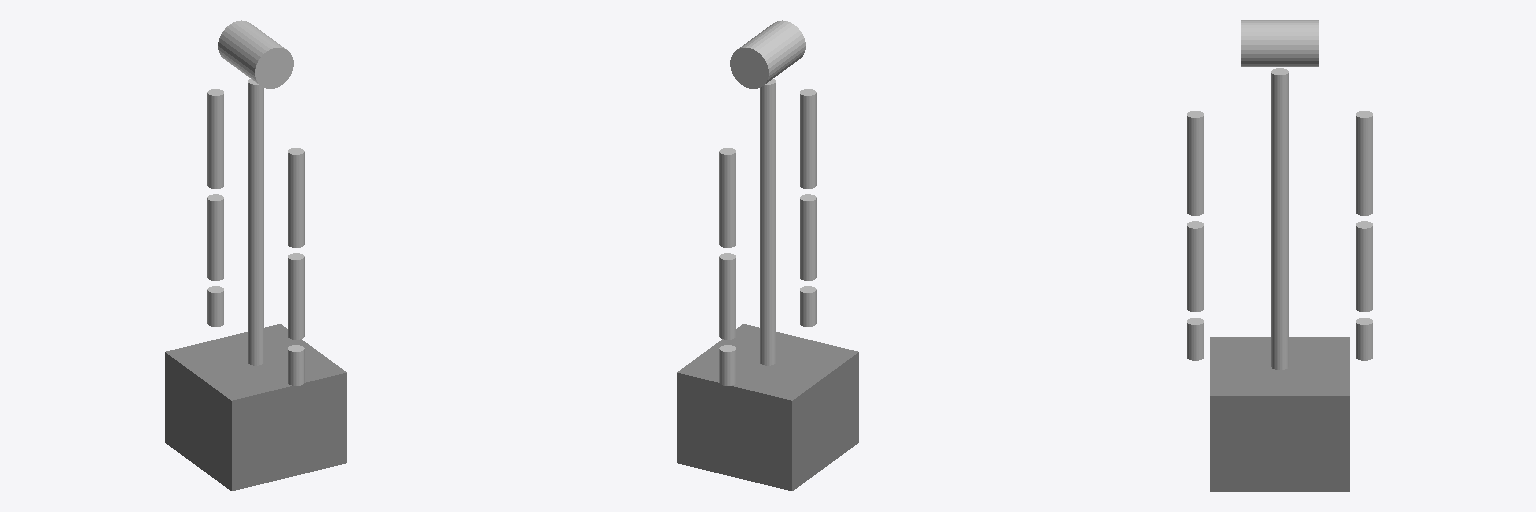
The robot description file, URDF, robot "hovering_atlas":
<?xml version="1.0" ?>
<robot name="hovering_atlas" xmlns:body="http://playerstage.sourceforge.net/gazebo/xmlschema/#body" xmlns:controller="http://playerstage.sourceforge.net/gazebo/xmlschema/#controller" xmlns:geom="http://playerstage.sourceforge.net/gazebo/xmlschema/#geom" xmlns:interface="http://playerstage.sourceforge.net/gazebo/xmlschema/#interface" xmlns:joint="http://playerstage.sourceforge.net/gazebo/xmlschema/#slider" xmlns:sensor="http://playerstage.sourceforge.net/gazebo/xmlschema/#sensor" xmlns:xacro="http://ros.org/wiki/xacro">  

  <material name="LightGrey">
    <color rgba="0.8 0.8 0.8 1.0"/>
  </material>
  <material name="Grey">
    <color rgba="0.6 0.6 0.6 1.0"/>
  </material>
  <material name="DarkGrey">
    <color rgba="0.3 0.3 0.3 1.0"/>
  </material>
  <material name="Black">
    <color rgba="0.1 0.1 0.1 1.0"/>
  </material>
<!--Superheavy base_link-->
<!-- <link name="base_link">
    <inertial>
      <origin rpy="0 0 0" xyz="0 0 0"/>
      <mass value="10000"/>
      <inertia ixx="10000" ixy="0" ixz="0" iyy="10000" iyz="0" izz="10000"/>
    </inertial>
   <visual>
      <origin rpy="0 0 0" xyz="0 0 0"/>
      <geometry>
        <box size="0.8 0.8 0.02"/>
      </geometry>
    </visual>
    <collision>
      <origin rpy="0 0 0" xyz="0 0 0"/>
      <geometry>
        <box size="0.8 0.8 0.02"/>
      </geometry>
    </collision>
</link>-->

<link name="Torso">
    <!-- assuming the rotational inertia of the torso is of a cuboid -->
    <inertial>
      <mass value="19.267"/>
      <inertia ixx="0.769042349872" ixy="0.0" ixz="0.0" iyy="0.418881944536" iyz="0.0" izz="0.452546488768"/>
    </inertial>
    <visual>
      <origin rpy="0 0 0" xyz="0.0 0.0 0.43927308"/>
      <geometry>
        <cylinder length="0.97854616" radius="0.025"/>
      </geometry>
      <material name="LightGrey"/>
    </visual>
    <collision>
      <origin rpy="0 0 0" xyz="0.0 0.0 0.43927308"/>
      <geometry>
        <box size=" 0.178562 0.4999736 0.97854616"/>
      </geometry>
    </collision>
  </link>

   <link name="NeckYaw_link">
    <inertial>
      <mass value="0.9"/>
      <inertia ixx="0.00530271247008" ixy="0.0" ixz="0.0" iyy="0.00530271247008" iyz="0.0" izz="0.00201768391825"/>
    </inertial>
  </link>
  <link name="NeckPitch_link">
    <inertial>
      <mass value="0.9"/>
      <inertia ixx="0.00530271247008" ixy="0.0" ixz="0.0" iyy="0.00530271247008" iyz="0.0" izz="0.00201768391825"/>
    </inertial>
    <visual>
      <origin rpy="1.57079632679 0 0" xyz="0 0 0.13749274"/>
      <geometry>
        <cylinder length="0.22141688" radius="0.06696075"/>
        <!--  <sphere radius="${(l_head/2)*height}"/>-->
      </geometry>
      <material name="LightGrey"/>
    </visual>
    <collision>
      <origin rpy="1.57 0 0" xyz="0 0 0.13749274"/>
      <geometry>
        <cylinder length="0.23927308" radius="0.06696075"/>
      </geometry>
    </collision>
  </link>
   <link name="LShoulderYaw_link">
    <inertial>
      <mass value="2.18522222222"/>
     <inertia ixx="0.0231667622255" ixy="0.0" ixz="0.0" iyy="0.0231667622255" iyz="0.0" izz="0.00217732727683"/>
    </inertial>
  </link>
  <link name="LShoulderPitch_link">
    <inertial>
      <mass value="2.18522222222"/>
      <inertia ixx="0.0231667622255" ixy="0.0" ixz="0.0" iyy="0.0231667622255" iyz="0.0" izz="0.00217732727683"/>
    </inertial>
  </link>
  <link name="LShoulderRoll_link">
    <inertial>
      <mass value="2.18522222222"/>
      <inertia ixx="0.0231667622255" ixy="0.0" ixz="0.0" iyy="0.0231667622255" iyz="0.0" izz="0.00217732727683"/>
    </inertial>
    <visual>
      <origin rpy="0 0 0" xyz="0 0 -0.17409795"/>
      <geometry>
        <cylinder length="0.3081959" radius="0.025"/>
      </geometry>
      <material name="LightGrey"/>
    </visual>
    <collision>
      <origin rpy="0 0 0" xyz="0 0 -0.17409795"/>
      <geometry>
        <cylinder length="0.3481959" radius="0.025"/>
      </geometry>
    </collision>
  </link>
  <link name="LElbowPitch_link">
    <inertial>
      <mass value="3.27783333333"/>
      <inertia ixx="0.0268028987778" ixy="0.0" ixz="0.0" iyy="0.0268028987778" iyz="0.0" izz="0.00326599091525"/>
    </inertial>
    <visual>
      <origin rpy="0 0 0" xyz="0 0 -0.1517777"/>
      <geometry>
        <cylinder length="0.2635554" radius="0.025"/>
      </geometry>
      <material name="LightGrey"/>
    </visual>
    <collision>
      <origin rpy="0 0 0" xyz="0 0 -0.1517777"/>
      <geometry>
        <cylinder length="0.3035554" radius="0.025"/>
      </geometry>
    </collision>
  </link>
  <link name="LWristYaw_link">
    <inertial>
      <mass value="1.0"/>
      <inertia ixx="0.0048720194876" ixy="0.0" ixz="0.0" iyy="0.0048720194876" iyz="0.0" izz="0.00199277424025"/>
    </inertial>
  </link>
  <link name="LWristRoll_link">
    <inertial>
      <mass value="1.0"/>
  <inertia ixx="0.0048720194876" ixy="0.0" ixz="0.0" iyy="0.0048720194876" iyz="0.0" izz="0.00199277424025"/>
    </inertial>
    <visual>
      <origin rpy="0 0 0" xyz="0 0 -0.076245974"/>
      <geometry>
        <cylinder length="0.112491948" radius="0.025"/>
      </geometry>
      <material name="LightGrey"/>
    </visual>
    <collision>
      <origin rpy="0 0 0" xyz="0 0 -0.076245974"/>
      <geometry>
        <cylinder length="0.152491948" radius="0.025"/>
      </geometry>
    </collision>
  </link>
  <link name="RShoulderYaw_link">
    <inertial>
      <mass value="2.18522222222"/>
      <inertia ixx="0.0231667622255" ixy="0.0" ixz="0.0" iyy="0.0231667622255" iyz="0.0" izz="0.00217732727683"/>
    </inertial>
  </link>
  <link name="RShoulderPitch_link">
    <inertial>
      <mass value="2.18522222222"/>
      <inertia ixx="0.0231667622255" ixy="0.0" ixz="0.0" iyy="0.0231667622255" iyz="0.0" izz="0.00217732727683"/>
    </inertial>
  </link>
  <link name="RShoulderRoll_link">
    <inertial>
      <mass value="2.18522222222"/>
      <inertia ixx="0.0231667622255" ixy="0.0" ixz="0.0" iyy="0.0231667622255" iyz="0.0" izz="0.00217732727683"/>
    </inertial>
    <visual>
      <origin rpy="0 0 0" xyz="0 0 -0.17409795"/>
      <geometry>
        <cylinder length="0.3081959" radius="0.025"/>
      </geometry>
      <material name="LightGrey"/>
    </visual>
    <collision>
      <origin rpy="0 0 0" xyz="0 0 -0.17409795"/>
      <geometry>
        <cylinder length="0.3481959" radius="0.025"/>
      </geometry>
    </collision>
  </link>
  <link name="RElbowPitch_link">
    <inertial>
      <mass value="3.27783333333"/>
      <inertia ixx="0.0268028987778" ixy="0.0" ixz="0.0" iyy="0.0268028987778" iyz="0.0" izz="0.00326599091525"/>
    </inertial>
    <visual>
      <origin rpy="0 0 0" xyz="0 0 -0.1517777"/>
      <geometry>
        <cylinder length="0.2635554" radius="0.025"/>
      </geometry>
      <material name="LightGrey"/>
    </visual>
    <collision>
      <origin rpy="0 0 0" xyz="0 0 -0.1517777"/>
      <geometry>
        <cylinder length="0.3035554" radius="0.025"/>
      </geometry>
    </collision>
  </link>
  <link name="RWristYaw_link">
    <inertial>
      <mass value="1.0"/>
   <inertia ixx="0.0048720194876" ixy="0.0" ixz="0.0" iyy="0.0048720194876" iyz="0.0" izz="0.00199277424025"/>
    </inertial>
  </link>
  <link name="RWristRoll_link">
    <inertial>
      <mass value="1.0"/>
     <inertia ixx="0.0048720194876" ixy="0.0" ixz="0.0" iyy="0.0048720194876" iyz="0.0" izz="0.00199277424025"/>
    </inertial>
    <visual>
      <origin rpy="0 0 0" xyz="0 0 -0.076245974"/>
      <geometry>
        <cylinder length="0.112491948" radius="0.025"/>
      </geometry>
      <material name="LightGrey"/>
    </visual>
    <collision>
      <origin rpy="0 0 0" xyz="0 0 -0.076245974"/>
      <geometry>
        <cylinder length="0.152491948" radius="0.025"/>
      </geometry>
    </collision>
  </link>

 <!-- Base and Wheels -->
  <link name="base">
    <inertial>
      <mass value="121.06"/>
      <inertia ixx="1.70235" ixy="0" ixz="0" iyy="1.70235" iyz="0" izz="0.5616"/>
    </inertial>
    <visual>
      <origin rpy="0 0 0" xyz="0 0 0"/>
      <geometry>
        <box size="0.4 0.4 0.3"/>
      </geometry>
      <material name="Lgrey">
        <color rgba=".6 .6 .6 1"/>
      </material>
    </visual>
    <collision>
      <origin rpy="0 0 0" xyz="0 0 0"/>
      <geometry>
        <box size="0.4 0.4 0.3"/>
      </geometry>
    </collision>
  </link>

   <link name="X_link">
    <inertial>
      <origin rpy="0 0 0" xyz="0 0 0"/>
      <mass value="121.06"/>
      <inertia ixx="1.70235" ixy="0" ixz="0" iyy="1.70235" iyz="0" izz="0.5616"/>
    </inertial>

  </link> 
 <link name="Y_link">
    <inertial>
        <origin rpy="0 0 0" xyz="0 0 0"/>
      <mass value="121.06"/>
      <inertia ixx="1.70235" ixy="0" ixz="0" iyy="1.70235" iyz="0" izz="0.5616"/>
    </inertial>
  </link> 

  <link name="world"/>
 <!-- JOINTS -->
<!--<gazebo reference="base">
    <turnGravityOff>true</turnGravityOff>
</gazebo>-->
<!--<gazebo reference="X_link">
    <turnGravityOff>true</turnGravityOff>
</gazebo>
<gazebo reference="Y_link">
    <turnGravityOff>true</turnGravityOff>
</gazebo>-->
<!--  <joint name="base_Joint" type="fixed">
    <parent link="world"/>
    <child link="base_link"/>
    <origin rpy="0 0 0" xyz="0 0 0.0"/>
  </joint>-->
  <joint name="X_Joint" type="prismatic">
    <parent link="world"/>
    <child link="X_link"/>
    <origin rpy="0 0 0" xyz="0 0 0.5"/>
     <axis xyz="1 0 0"/>
    <dynamics damping="0.0" friction="0"/>
    <limit effort="200" lower="-150" upper="150" velocity="30.0"/>
  </joint>
  
  <joint name="Y_Joint" type="prismatic">
    <parent link="X_link"/>
    <child link="Y_link"/>
    <origin rpy="0 0 0" xyz="0 0 0.0"/>
     <axis xyz="0 1 0"/>
    <dynamics damping="0.0" friction="0"/>
    <limit effort="200" lower="-150" upper="150" velocity="30.0"/>
  </joint>
    
  <joint name="Theta_Joint" type="continuous">
    <parent link="Y_link"/>
    <child link="base"/>
    <axis xyz="0 0 1"/>
    <origin rpy="0 0 0" xyz="0 0 0.17"/>
    <dynamics damping="0.0" friction="0"/> 
  </joint>


  <joint name="Base_Torso_joint" type="fixed">
    <child link="Torso"/>
    <parent link="base"/>
    <origin rpy="0 0 0" xyz="0 0 0.15"/>
  </joint>

  <joint name="NeckYaw" type="revolute">
    <parent link="Torso"/>
    <child link="NeckYaw_link"/>
    <origin rpy="0 0 0" xyz="0 0 0.87854616"/>
    <axis xyz="0 0 1"/>
    <limit effort="54" lower="-1.5707963259" upper="1.5707963259" velocity="3"/>
    <dynamics damping="1" friction="10"/>
  </joint>
  <joint name="NeckPitch" type="revolute">
    <parent link="NeckYaw_link"/>
    <child link="NeckPitch_link"/>
    <origin rpy="0 0 0" xyz="0 0 0"/>
    <axis xyz="0 1 0"/>
    <limit effort="25" lower="-0.78539816295" upper="0.78539816295" velocity="3"/>
      <dynamics damping="1" friction="10"/>
  </joint>
  <joint name="LShoulderRoll" type="revolute">
    <parent link="LShoulderPitch_link"/>
    <child link="LShoulderRoll_link"/>
    <origin rpy="0 0 0" xyz="0 0 0"/>
    <axis xyz="1 0 0"/>
    <limit effort="110" lower="0.0" upper="2.00712863865" velocity="3"/>
    <dynamics damping="1" friction="10"/>
  </joint>
  <joint name="RShoulderRoll" type="revolute">
    <parent link="RShoulderPitch_link"/>
    <child link="RShoulderRoll_link"/>
    <origin rpy="0 0 0" xyz="0 0 0"/>
    <axis xyz="1 0 0"/>
    <limit effort="110" lower="-2.00712863865" upper="-0.0" velocity="3"/>
    <dynamics damping="1" friction="10"/>
  </joint>
  <joint name="LShoulderYaw" type="revolute">
    <parent link="base"/>
    <child link="LShoulderYaw_link"/>
    <origin rpy="0 0 0" xyz="0 0.2410587 0.96426384"/>
    <axis xyz="0 0 1"/>
    <limit effort="80" lower="-0.6981317004" upper="1.745329251" velocity="3"/>
    <dynamics damping="1" friction="10"/>
  </joint>
  <joint name="LShoulderPitch" type="revolute">
    <parent link="LShoulderYaw_link"/>
    <child link="LShoulderPitch_link"/>
    <origin rpy="0 0 0" xyz="0 0 0"/>
    <axis xyz="0 1 0"/>
    <limit effort="110" lower="-1.5707963259" upper="0.8726646255" velocity="3"/>
    <dynamics damping="1" friction="10"/>
  </joint>
  <joint name="LElbowPitch" type="revolute">
    <parent link="LShoulderRoll_link"/>
    <child link="LElbowPitch_link"/>
    <origin rpy="0 0 0" xyz="0 0 -0.3481959"/>
    <axis xyz="0 1 0"/>
    <limit effort="100" lower="-2.35619448885" upper="0.0" velocity="3"/>
    <dynamics damping="1" friction="10"/>
  </joint>
  <joint name="LWristYaw" type="revolute">
    <parent link="LElbowPitch_link"/>
    <child link="LWristYaw_link"/>
    <origin rpy="0 0 0" xyz="0 0 -0.3035554"/>
    <axis xyz="0 0 1"/>
    <limit effort="15" lower="-1.48352986335" upper="1.48352986335" velocity="3"/>
    <dynamics damping="1" friction="10"/>
  </joint>
  <joint name="RShoulderYaw" type="revolute">
    <parent link="base"/>
    <child link="RShoulderYaw_link"/>
    <origin rpy="0 0 0" xyz="0 -0.2410587 0.96426384"/>
    <axis xyz="0 0 1"/>
    <limit effort="80" lower="-0.6981317004" upper="1.745329251" velocity="3"/>
    <dynamics damping="1" friction="10"/>
  </joint>
  <joint name="RShoulderPitch" type="revolute">
    <parent link="RShoulderYaw_link"/>
    <child link="RShoulderPitch_link"/>
    <origin rpy="0 0 0" xyz="0 0 0"/>
    <axis xyz="0 1 0"/>
    <limit effort="110" lower="-1.5707963259" upper="0.8726646255" velocity="3"/>
    <dynamics damping="1" friction="10"/>
  </joint>
  <joint name="RElbowPitch" type="revolute">
    <parent link="RShoulderRoll_link"/>
    <child link="RElbowPitch_link"/>
    <origin rpy="0 0 0" xyz="0 0 -0.3481959"/>
    <axis xyz="0 1 0"/>
    <limit effort="100" lower="-2.35619448885" upper="0.0" velocity="3"/>
    <dynamics damping="1" friction="10"/>
  </joint>
  <joint name="RWristYaw" type="revolute">
    <parent link="RElbowPitch_link"/>
    <child link="RWristYaw_link"/>
    <origin rpy="0 0 0" xyz="0 0 -0.3035554"/>
    <axis xyz="0 0 1"/>
    <limit effort="15" lower="-1.48352986335" upper="1.48352986335" velocity="3"/>
    <dynamics damping="1" friction="10"/>
  </joint>
  <joint name="LWristRoll" type="revolute">
    <parent link="LWristYaw_link"/>
    <child link="LWristRoll_link"/>
    <origin rpy="0 0 0" xyz="0 0 0"/>
    <axis xyz="1 0 0"/>
    <limit effort="30" lower="-0.5235987753" upper="1.0471975506" velocity="3"/>
    <dynamics damping="1" friction="10"/>
  </joint>
  <joint name="RWristRoll" type="revolute">
    <parent link="RWristYaw_link"/>
    <child link="RWristRoll_link"/>
    <origin rpy="0 0 0" xyz="0 0 0"/>
    <axis xyz="1 0 0"/>
    <limit effort="30" lower="-1.0471975506" upper="0.5235987753" velocity="3"/>
    <dynamics damping="1" friction="10"/>
  </joint>

  <gazebo>

    <controller:planar_hover_plugin name="planar_hover_controller" plugin="libplanar_hover_plugin_pre_fuerte.so">
        <alwaysOn>true</alwaysOn>
	<update>100</update>
	<updateRate>100.0</updateRate>
        <YJoint>Y_Joint</YJoint>
        <XJoint>X_Joint</XJoint>
        <ThetaJoint>Theta_Joint</ThetaJoint>
	<MovingBase>base</MovingBase>
        <torque>300</torque>
        <interface:position name="position_iface_0"/>
        <topicName>cmd_vel</topicName>
      </controller:planar_hover_plugin> 


   <!-- <controller:joint_actuation_plugin name="joint_torque_controller" plugin="libjoint_actuation_plugin.so">
       <alwaysOn>true</alwaysOn>
       <topicName>actuator_cmd</topicName>
    </controller:joint_actuation_plugin>-->


    <controller:gazebo_ros_pub_robot_state name="gazebo_ros_pub_robot_controller" plugin="libgazebo_ros_pub_robot_state_pre_fuerte.so">
     	<alwaysOn>true</alwaysOn>
     	<updateRate>100.0</updateRate>
      	 <topicName>true_robot_state</topicName>
     </controller:gazebo_ros_pub_robot_state>      
   <!--     zero gravity-->
  <!--<enableGravity>false</enableGravity>    -->
   </gazebo>


</robot>

--- What the picture shows (computed from the rendered views, not written in the file) ---
3 views of the same robot in one strip: view 1: azimuth 30°, elevation 25°; view 2: azimuth 150°, elevation 25°; view 3: azimuth 270°, elevation 25° (orthographic).
Robot: hovering_atlas — 19 links, 18 joints (14 revolute, 1 continuous, 2 prismatic, 1 fixed); root link world; default pose: all joints at 0.
Visible links, largest first — view 1: base, Torso, NeckPitch_link, LShoulderRoll_link, RShoulderRoll_link, LElbowPitch_link, RElbowPitch_link, LWristRoll_link, RWristRoll_link; view 2: base, Torso, NeckPitch_link, LShoulderRoll_link, RShoulderRoll_link, LElbowPitch_link, RElbowPitch_link, LWristRoll_link, RWristRoll_link; view 3: base, Torso, NeckPitch_link, LShoulderRoll_link, RShoulderRoll_link, LElbowPitch_link, RElbowPitch_link, LWristRoll_link, RWristRoll_link.
Boxes of the visible links, x1,y1,x2,y2 form: base: (165, 324, 346, 490); Torso: (248, 79, 263, 365); NeckPitch_link: (218, 20, 293, 88); LShoulderRoll_link: (207, 89, 223, 188); RShoulderRoll_link: (288, 148, 304, 247); LElbowPitch_link: (207, 194, 223, 280); RElbowPitch_link: (288, 253, 304, 339); LWristRoll_link: (207, 286, 223, 326); RWristRoll_link: (288, 345, 304, 385); base: (677, 324, 858, 490); Torso: (760, 79, 775, 365); NeckPitch_link: (730, 20, 805, 88); LShoulderRoll_link: (719, 148, 735, 247); RShoulderRoll_link: (800, 89, 816, 188); LElbowPitch_link: (719, 253, 735, 339); RElbowPitch_link: (800, 194, 816, 280); LWristRoll_link: (719, 345, 735, 385); RWristRoll_link: (800, 286, 816, 326); base: (1210, 337, 1349, 491); Torso: (1271, 68, 1288, 369); NeckPitch_link: (1241, 20, 1318, 66); LShoulderRoll_link: (1356, 111, 1372, 215); RShoulderRoll_link: (1187, 111, 1203, 215); LElbowPitch_link: (1356, 221, 1372, 311); RElbowPitch_link: (1187, 221, 1203, 311); LWristRoll_link: (1356, 318, 1372, 360); RWristRoll_link: (1187, 318, 1203, 360).
Size in the robot's own frame: 0.4 by 0.5321 by 1.38 metres.
Geometry: primitives only (box / cylinder / sphere), no mesh files.